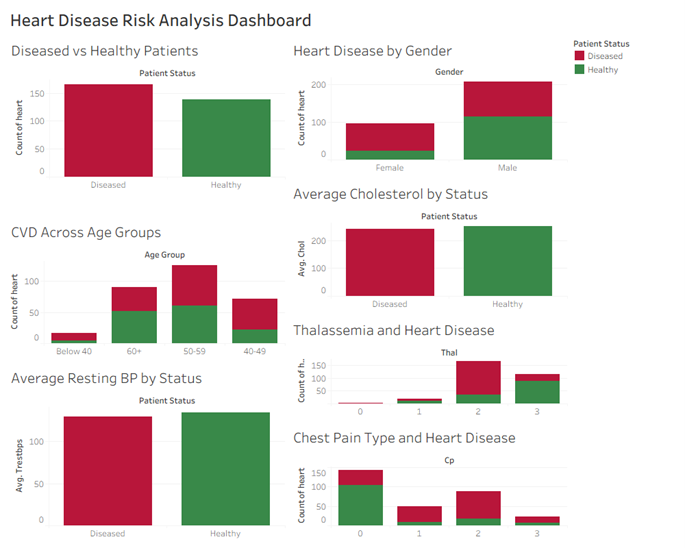

Layout of this report page (visuals, bound fields, positions):
{"tool":"tableau","page":{"name":"Dashboard 1","canvas":[1000,800],"ordinal":0},"visuals":[{"type":"title","box":[8,8,984,41]},{"type":"worksheet","title":"Diseased vs Healthy Patients","mark":"Automatic","rows":["heart_E20685CDD1D9421F934054F9F7FA032B"],"cols":["Calculation_1208097023016961"],"box":[8,49,412,265.3]},{"type":"worksheet","title":"Heart Disease by Gender","mark":"Automatic","rows":["heart_E20685CDD1D9421F934054F9F7FA032B"],"cols":["Calculation_1208097024913410"],"box":[420,49,412,209]},{"type":"legend","title":"Heart Disease by Gender","param":"[federated.1fbjwse1uyzzgf1cpxrp707fhq94].[none:Calculation_1208097023016961:nk]","box":[832,49,160,66]},{"type":"worksheet","title":"Average Cholesterol by Status","mark":"Automatic","rows":["chol"],"cols":["Calculation_1208097023016961"],"box":[420,258,412,198.5]},{"type":"worksheet","title":"CVD Across Age Groups","mark":"Automatic","rows":["heart_E20685CDD1D9421F934054F9F7FA032B"],"cols":["Calculation_1208097025863683"],"box":[8,314.3,412,212.3]},{"type":"worksheet","title":"Thalassemia and Heart Disease","mark":"Automatic","rows":["heart_E20685CDD1D9421F934054F9F7FA032B"],"cols":["thal"],"box":[420,456.5,412,157.3]},{"type":"worksheet","title":"Average Resting BP by Status","mark":"Automatic","rows":["trestbps"],"cols":["Calculation_1208097023016961"],"box":[8,526.6,412,265.4]},{"type":"worksheet","title":"Chest Pain Type and Heart Disease","mark":"Automatic","rows":["heart_E20685CDD1D9421F934054F9F7FA032B"],"cols":["cp"],"box":[420,613.8,412,178.2]}]}

Visuals, with their boxes in screenshot pixels (x1, y1, x2, y2), scaled from the page's 1000x800 canvas onto the 685x548 screenshot:
title: left=5, top=5, right=680, bottom=34
"Diseased vs Healthy Patients" worksheet: left=5, top=34, right=288, bottom=215
"Heart Disease by Gender" worksheet: left=288, top=34, right=570, bottom=177
"Heart Disease by Gender" legend: left=570, top=34, right=680, bottom=79
"Average Cholesterol by Status" worksheet: left=288, top=177, right=570, bottom=313
"CVD Across Age Groups" worksheet: left=5, top=215, right=288, bottom=361
"Thalassemia and Heart Disease" worksheet: left=288, top=313, right=570, bottom=420
"Average Resting BP by Status" worksheet: left=5, top=361, right=288, bottom=543
"Chest Pain Type and Heart Disease" worksheet: left=288, top=420, right=570, bottom=543
